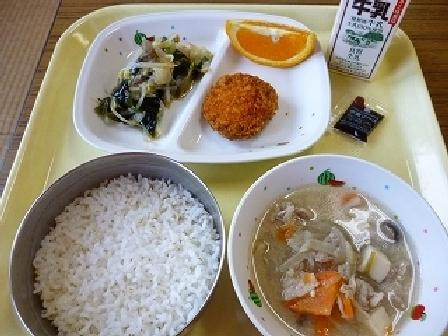Citrus: (221, 16, 314, 72)
Milk: (318, 0, 413, 83)
Rice: (14, 155, 223, 333)
Salad: (88, 24, 204, 133)
Soups: (229, 156, 447, 334)
cutlet: (203, 69, 282, 148)
